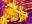Hotspot: (11, 0, 28, 21), (7, 10, 15, 19), (0, 14, 7, 23)
